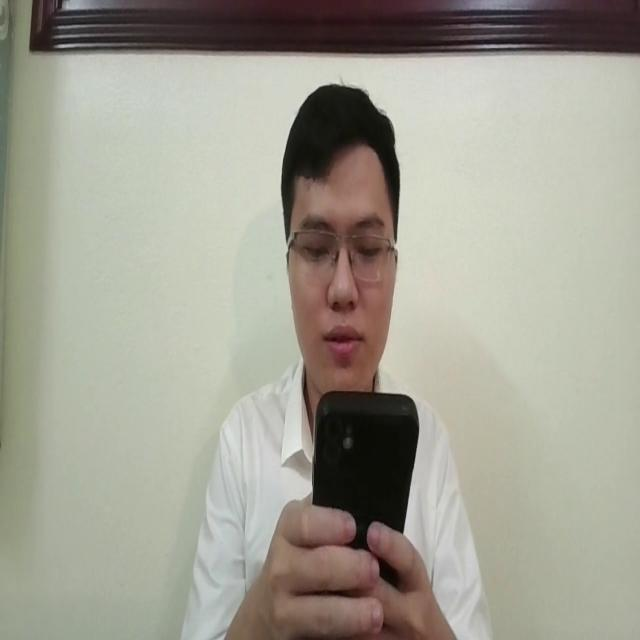phone: (305, 391, 420, 558)
student: (176, 79, 495, 640)
